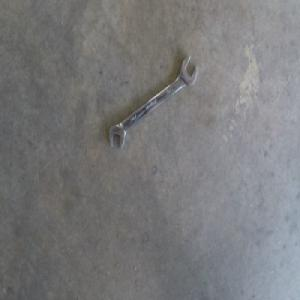Wrench: (109, 57, 199, 150)
